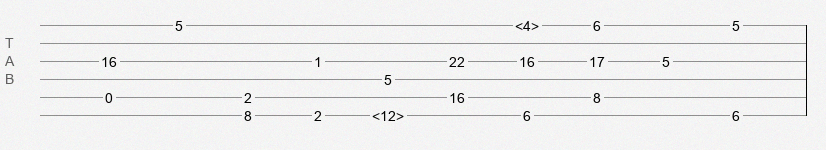0: (105, 90, 113, 100)
1: (314, 54, 322, 64)
16: (101, 54, 117, 64), (449, 90, 465, 100), (519, 54, 535, 64)
17: (589, 54, 605, 64)
2: (244, 90, 252, 100), (314, 108, 322, 118)
22: (449, 54, 465, 64)
5: (175, 18, 183, 28), (384, 72, 392, 82), (662, 54, 670, 64), (732, 18, 740, 28)
6: (523, 108, 531, 118), (593, 18, 601, 28), (732, 108, 740, 118)
8: (244, 108, 252, 118), (593, 90, 601, 100)
harmonic: (372, 108, 404, 118), (515, 18, 539, 28)
